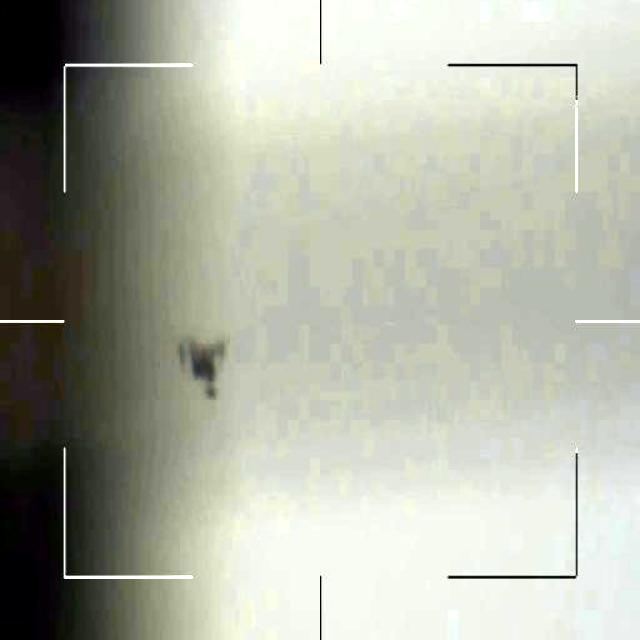bird: (176, 331, 231, 405)
